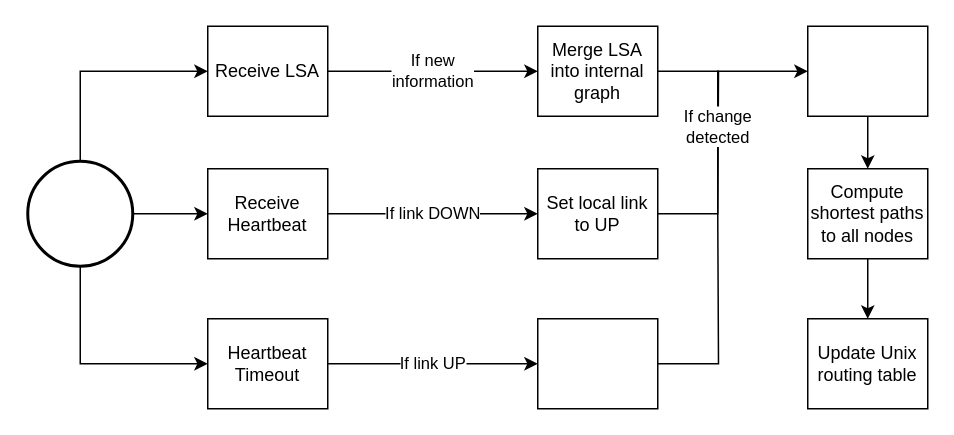
This 954x435 diagram has some shape labels left out. The shapes that lost their labels are listed below. From the top down, each one's box as (x1, y1, x2, y2) in pixels, then its label:
(806, 25, 928, 116): Send LSA to all neighbours
(26, 159, 134, 267): START
(536, 317, 658, 409): Set local link to DOWN
